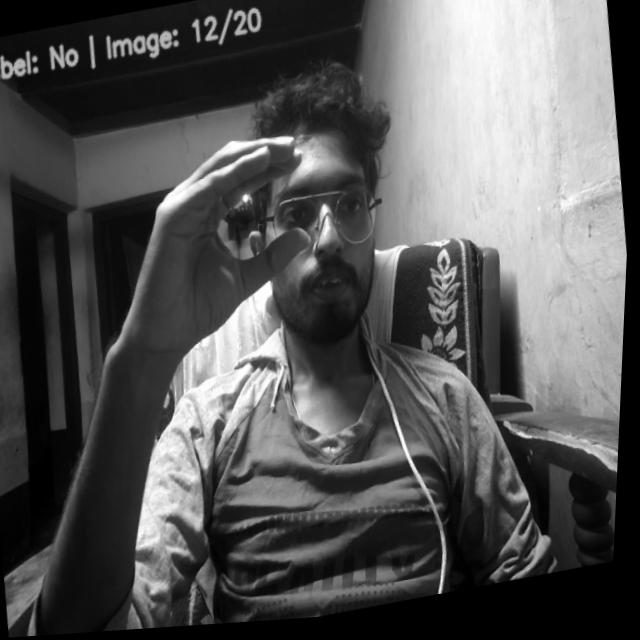No: (112, 117, 329, 363)
